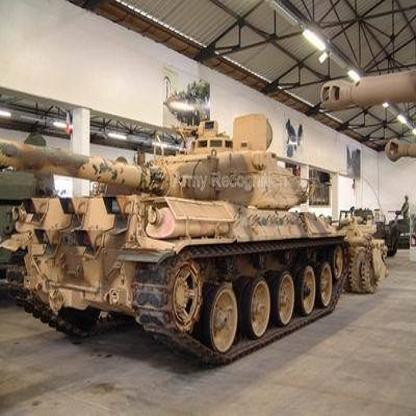Tank: (1, 115, 353, 366)
